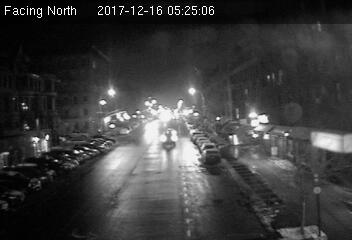car: (202, 148, 222, 164)
